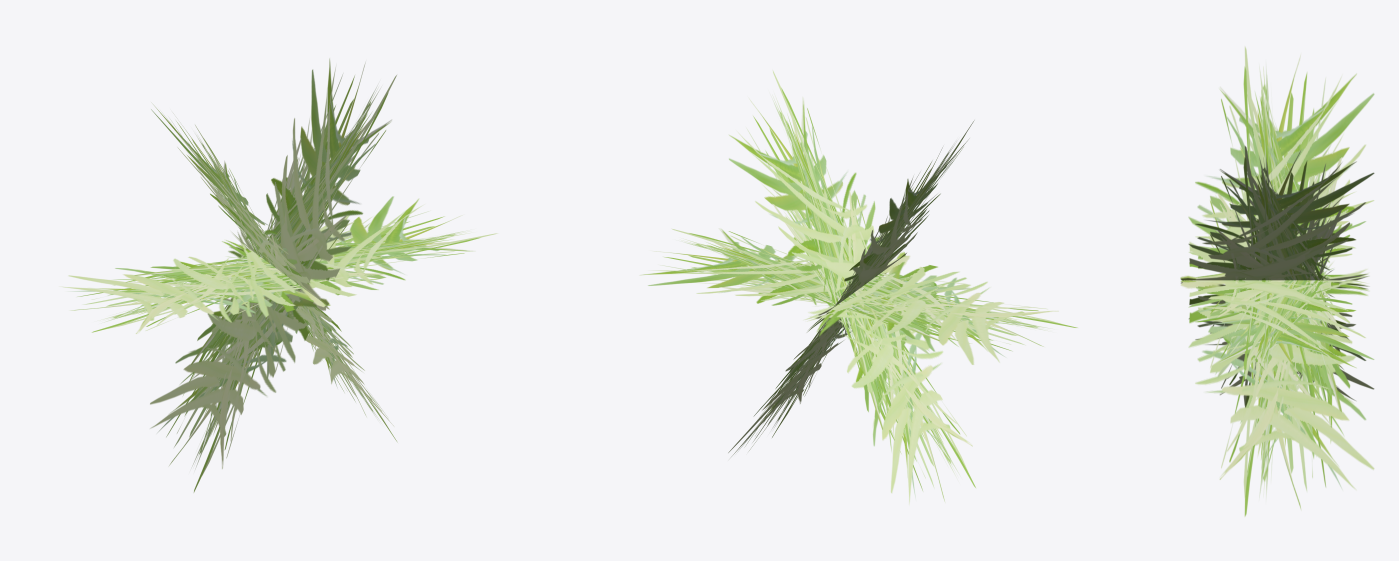
The model's file is GrassCard_Lawn_C.glb.
3 renders of one model, left to right at view 1: azimuth 30°, elevation 25°; view 2: azimuth 150°, elevation 25°; view 3: azimuth 270°, elevation 25°, orthographic.
Visible parts, largest first — view 1: GrassCard_Lawn_C; view 2: GrassCard_Lawn_C; view 3: GrassCard_Lawn_C.
Boxes of the visible parts, box(x1,y1,x2,y2) form: GrassCard_Lawn_C: box(60, 59, 497, 492); GrassCard_Lawn_C: box(640, 70, 1077, 504); GrassCard_Lawn_C: box(1180, 46, 1374, 516).
Size of the model in its own units: 0.15 by 0.1299 by 0.06.
1 material, 1 textured.
